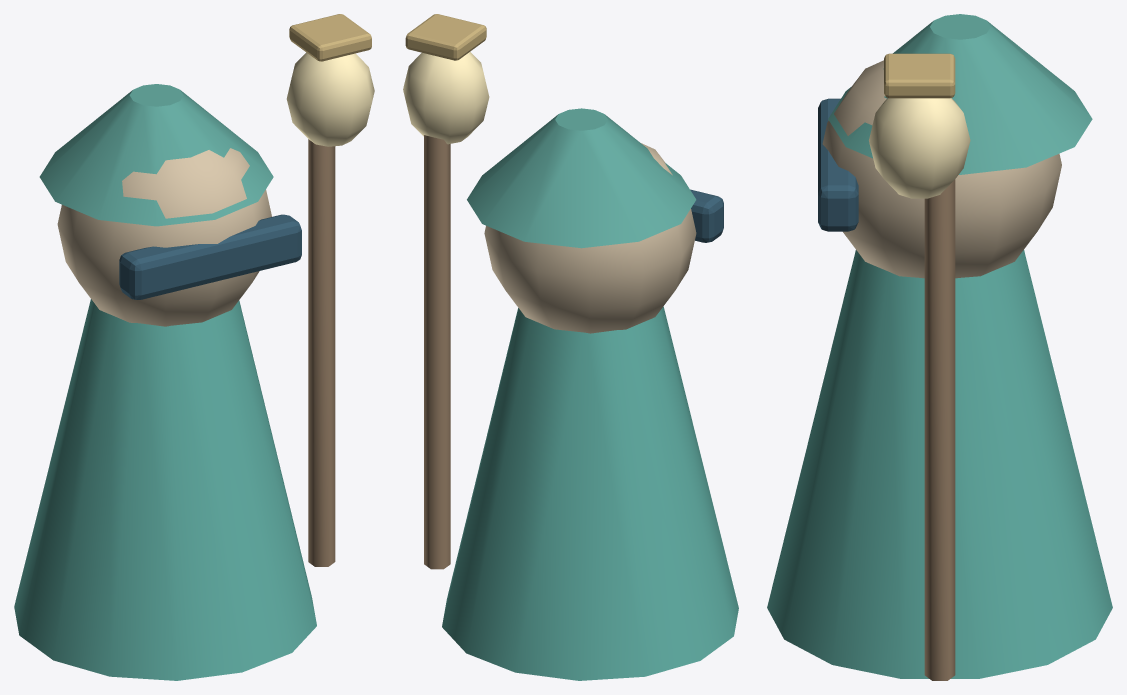
File: courier.glb
3 renders of one model, left to right at view 1: azimuth 30°, elevation 25°; view 2: azimuth 150°, elevation 25°; view 3: azimuth 270°, elevation 25°, orthographic. The views are drawn at different scales.
Parts seen in each view (by area): view 1: courier_Palette, courier_Glow; view 2: courier_Palette, courier_Glow; view 3: courier_Palette, courier_Glow.
Boxes of the visible parts, x1=… form: courier_Palette: x1=14, y1=14, x2=371, y2=680; courier_Glow: x1=286, y1=52, x2=374, y2=146; courier_Palette: x1=405, y1=14, x2=738, y2=680; courier_Glow: x1=403, y1=52, x2=489, y2=144; courier_Palette: x1=767, y1=14, x2=1112, y2=680; courier_Glow: x1=869, y1=98, x2=970, y2=198.
Bounding box in the file's own units: 0.4133 × 0.685 × 0.34.
